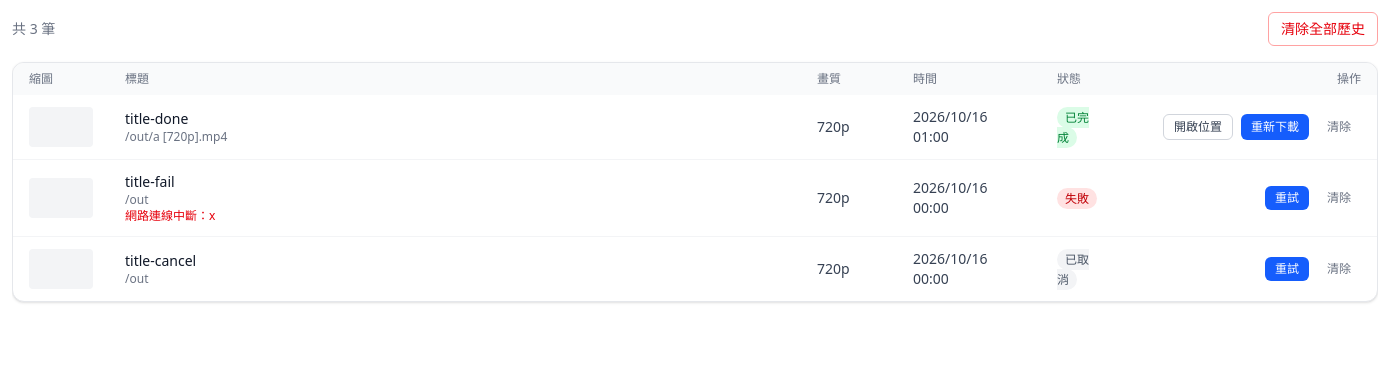
HistoryPage › shows errors from the backend
Click the button "開啟位置". click: [1198, 127]
box: top-left (1163, 114), bottom-right (1233, 140)
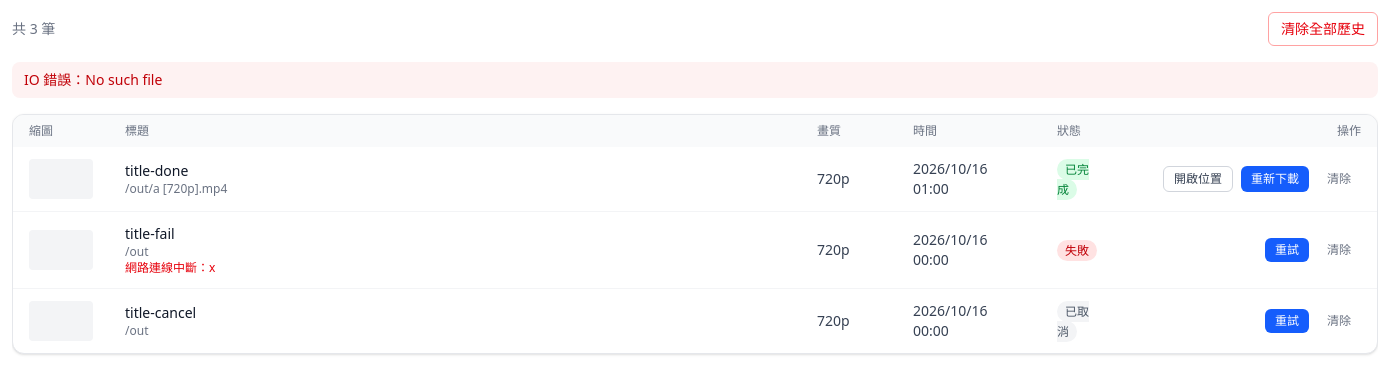
Now the message "IO 錯誤：No such file" is shown, box top-left (12, 62), bottom-right (1378, 98)
